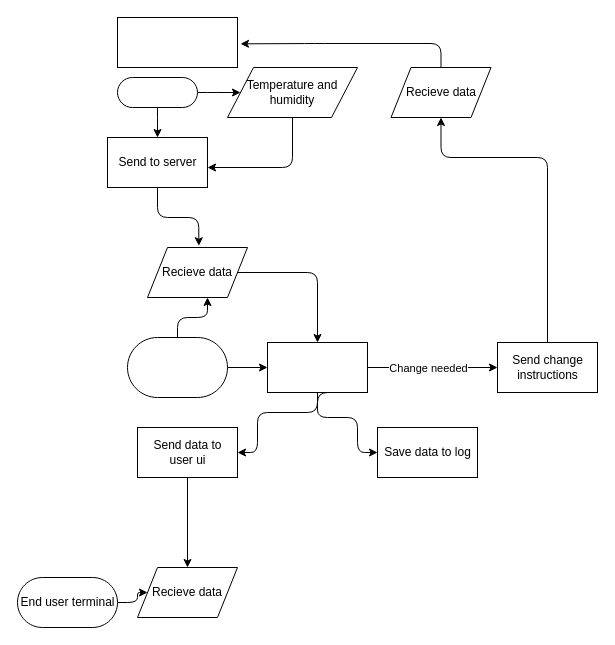
Image size: 615x645. Some labels were removed from this diagram. The centre of each missing label's shape, as x and y in pixels:
"ESP32 node" goes at point (157, 92).
"ESPhome Home-assistend Node-red server" goes at point (177, 367).
"Execute instructions" goes at point (177, 42).
"Node-Red Compare data" goes at point (317, 367).
